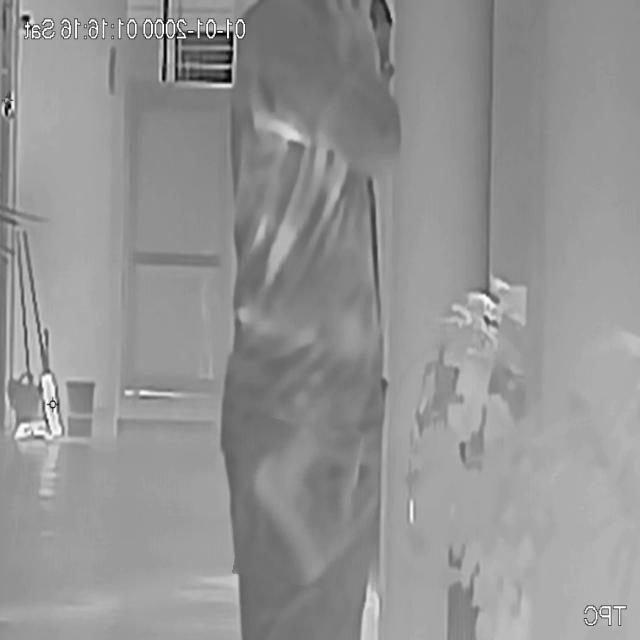Weapon: (238, 420, 356, 588)
